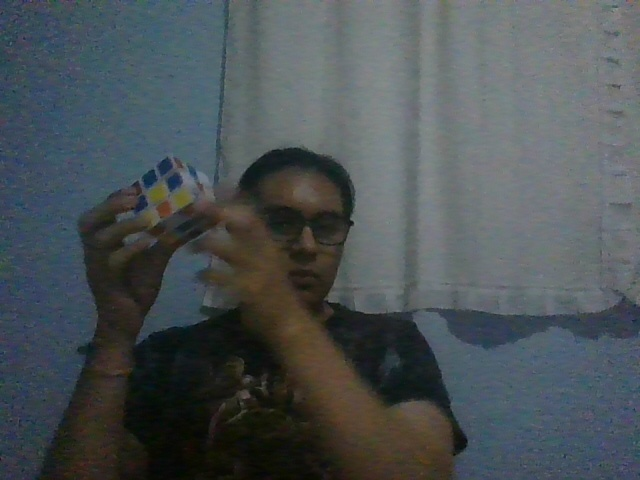rubik: (128, 155, 222, 251)
